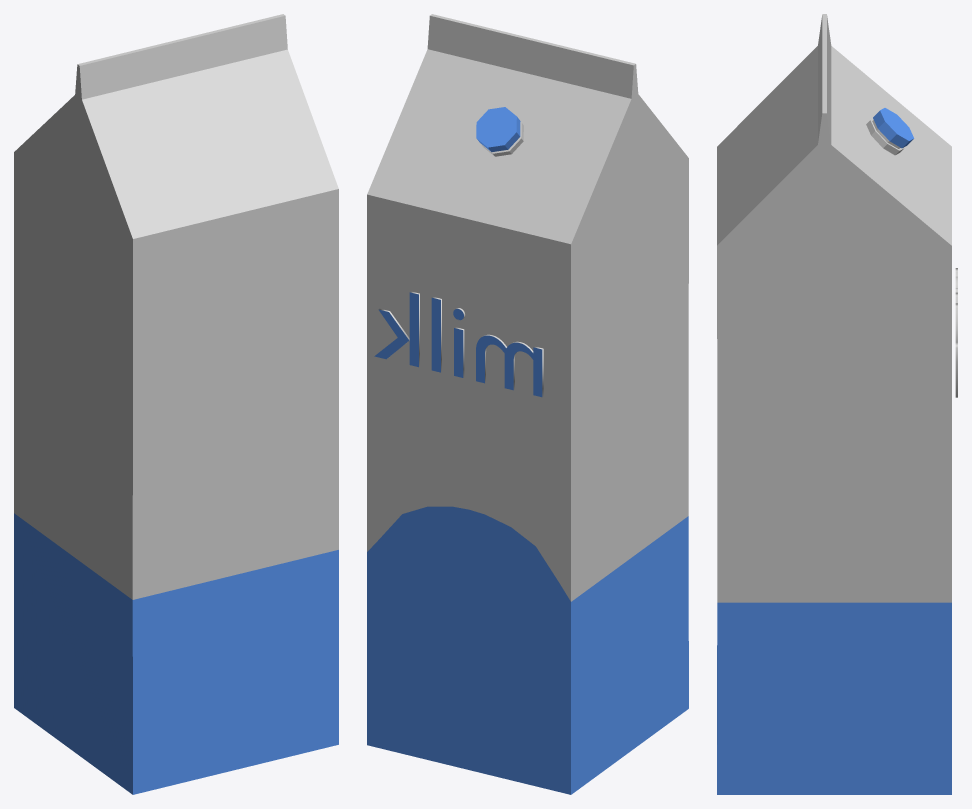
File: CAIXA DE LEITE.fbx
The picture shows the model from 3 angles, left to right: view 1: azimuth 30°, elevation 25°; view 2: azimuth 150°, elevation 25°; view 3: azimuth 270°, elevation 25°; orthographic projection.
Visible parts, largest first — view 1: Text; view 2: Text; view 3: Text.
Part boxes in pixels (bbox=[...]): Text: bbox=[14, 14, 338, 794]; Text: bbox=[367, 14, 688, 794]; Text: bbox=[717, 14, 957, 794].
Size of the model in its own units: 200 by 640 by 205.
